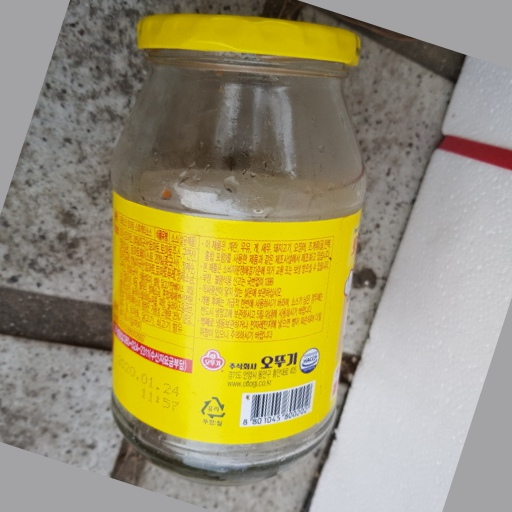Glass_5: (104, 10, 367, 469)
